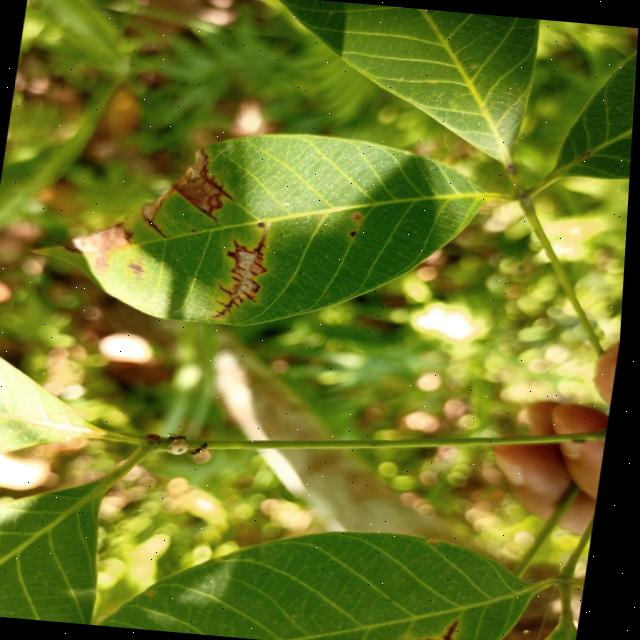Colletotrichum: (352, 228, 360, 236)
Corynespora: (216, 226, 276, 320), (405, 614, 471, 640), (199, 172, 240, 200), (141, 214, 173, 238), (128, 260, 151, 278), (199, 203, 223, 220)
Leaf-Blight: (143, 144, 230, 224), (67, 216, 134, 271)
